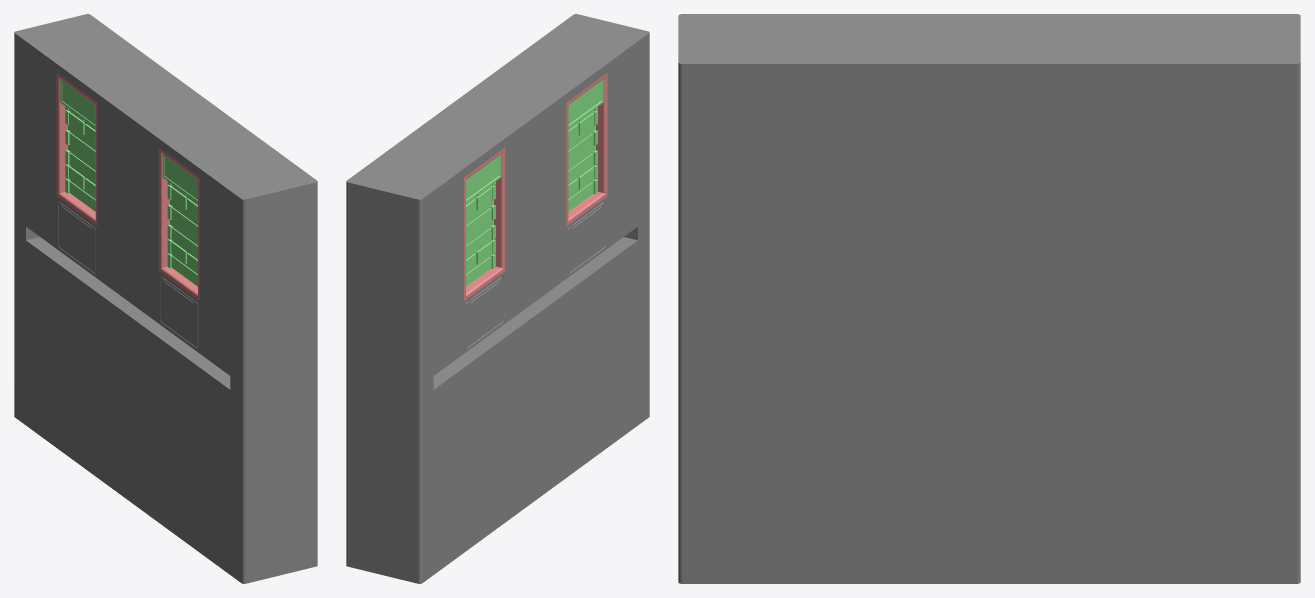
File: S_Envi_FZFBase_Wall_03v.gltf
3 views of the same model, side by side, from view 1: azimuth 30°, elevation 25°; view 2: azimuth 150°, elevation 25°; view 3: azimuth 270°, elevation 25° (orthographic). The views are drawn at different scales.
Parts seen in each view (by area): view 1: S_Envi_FZFBase_Wall_03v; view 2: S_Envi_FZFBase_Wall_03v; view 3: S_Envi_FZFBase_Wall_03v.
Part boxes in pixels (bbox=[...]): S_Envi_FZFBase_Wall_03v: bbox=[14, 14, 317, 583]; S_Envi_FZFBase_Wall_03v: bbox=[346, 14, 649, 583]; S_Envi_FZFBase_Wall_03v: bbox=[678, 14, 1300, 583].
Size of the model in its own units: 1.71 by 8.3 by 9.
